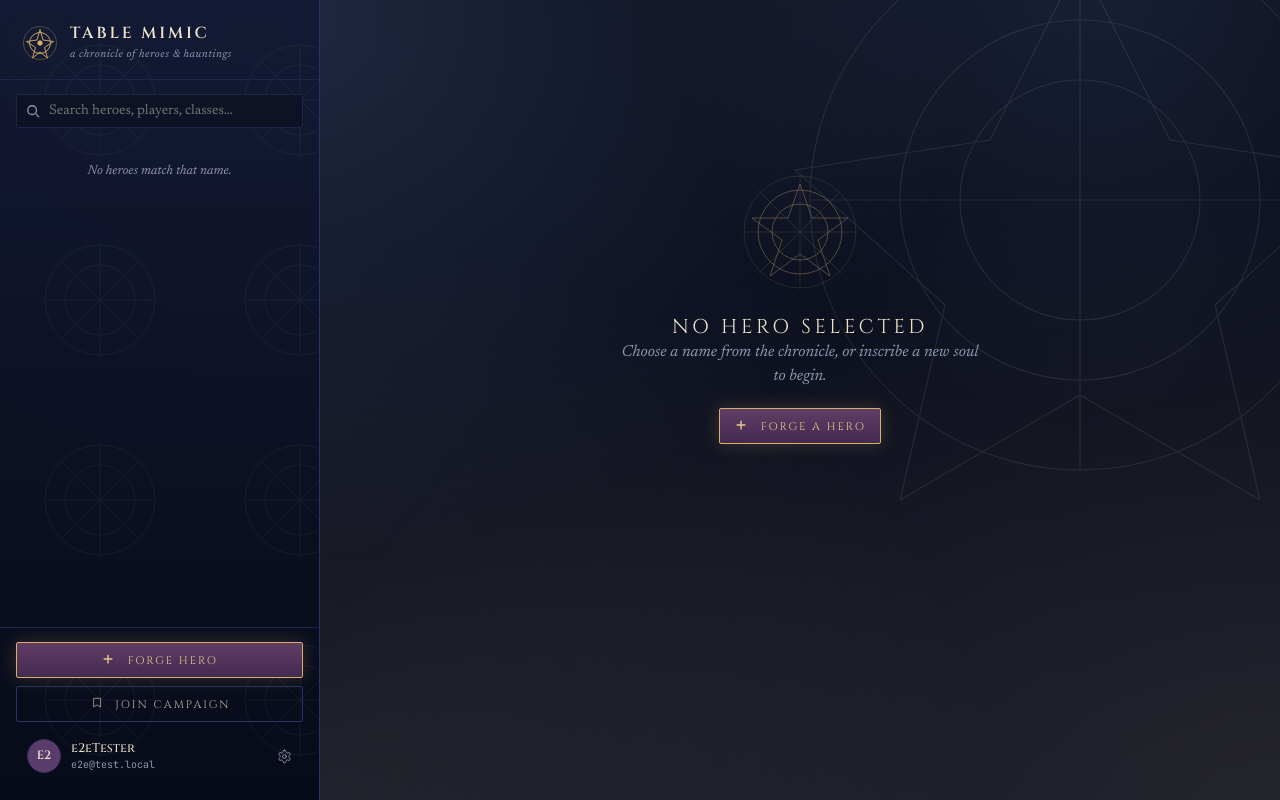
Test case: character creation wizard › restores a draft after reload
Click the button "Forge Hero": (160, 660) [16,642,303,678]
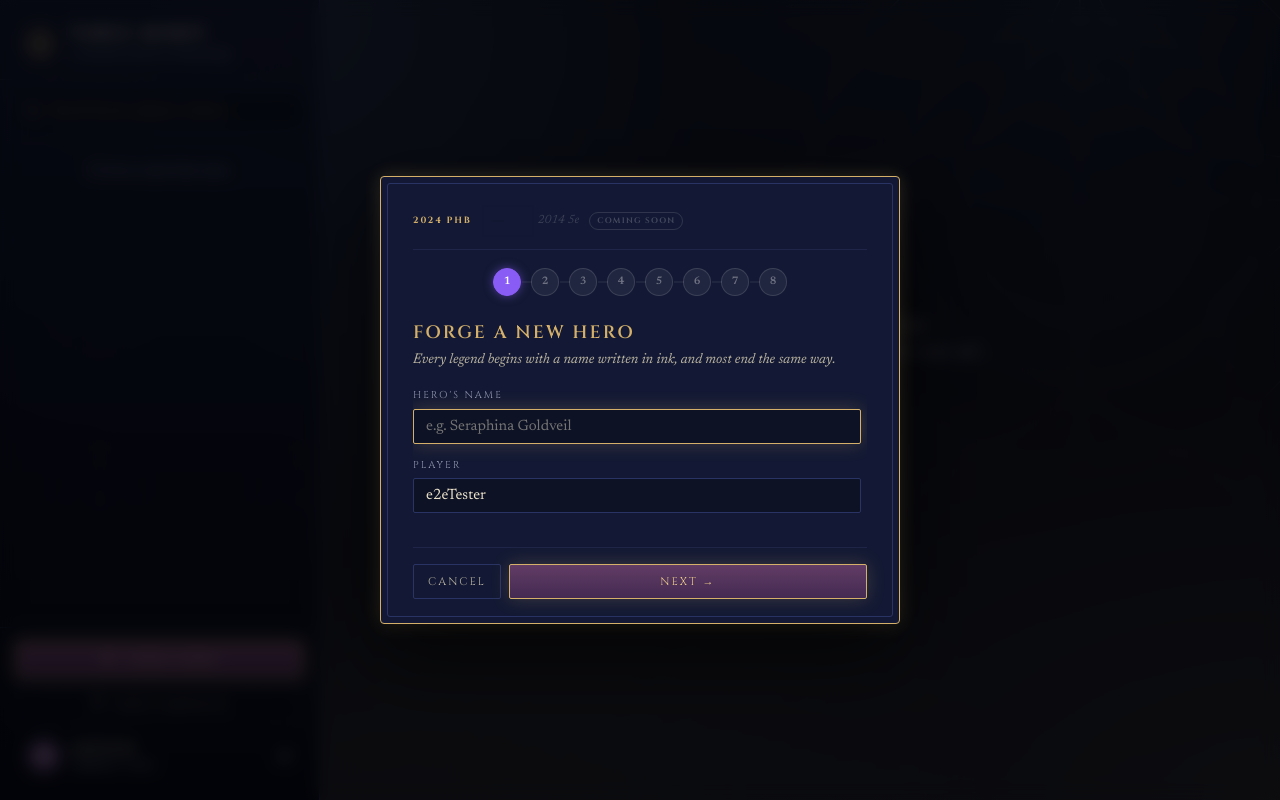
Expected: the dialog with class "wizard" is shown, [380,176,900,624]
In the field with placeholder "e.g. Seraphina Goldveil": (637, 427) [413,409,861,444], type "Draft Test"
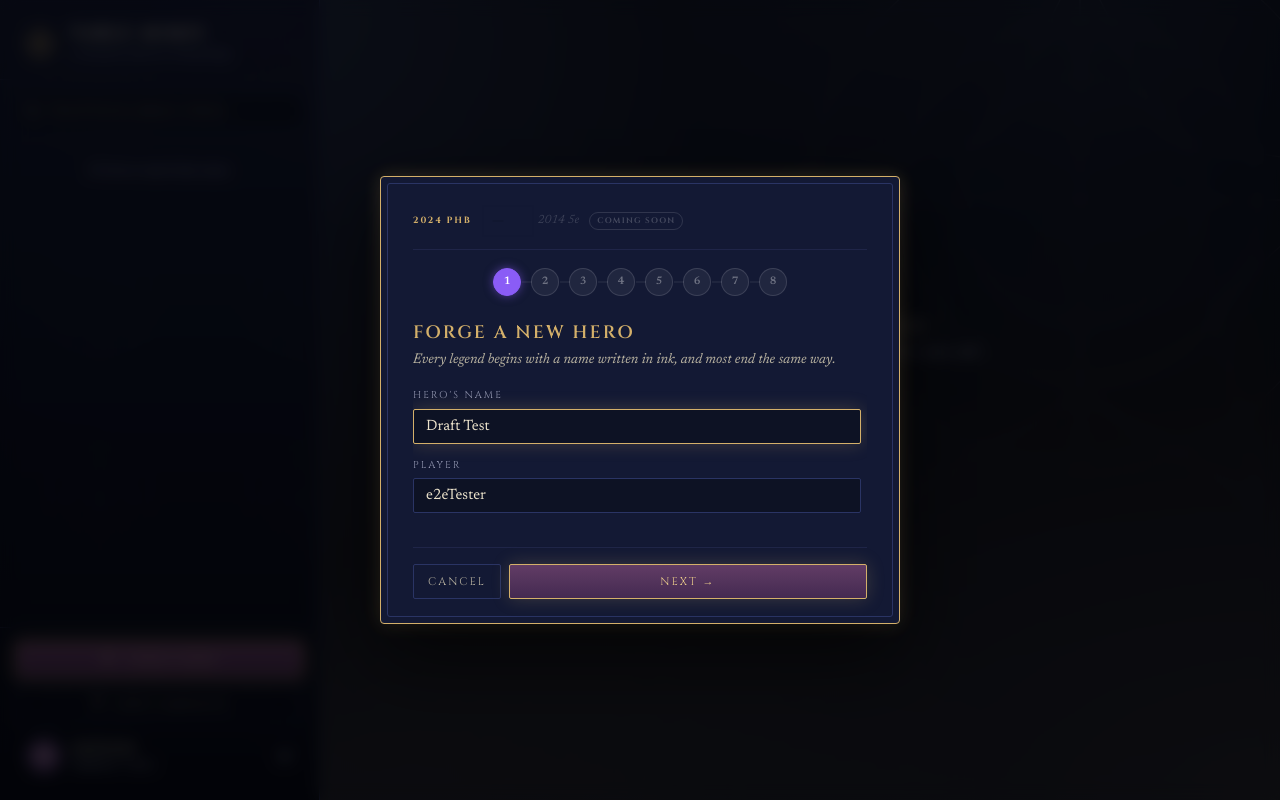
Click the button "Next →": (688, 582) [509,564,867,599]
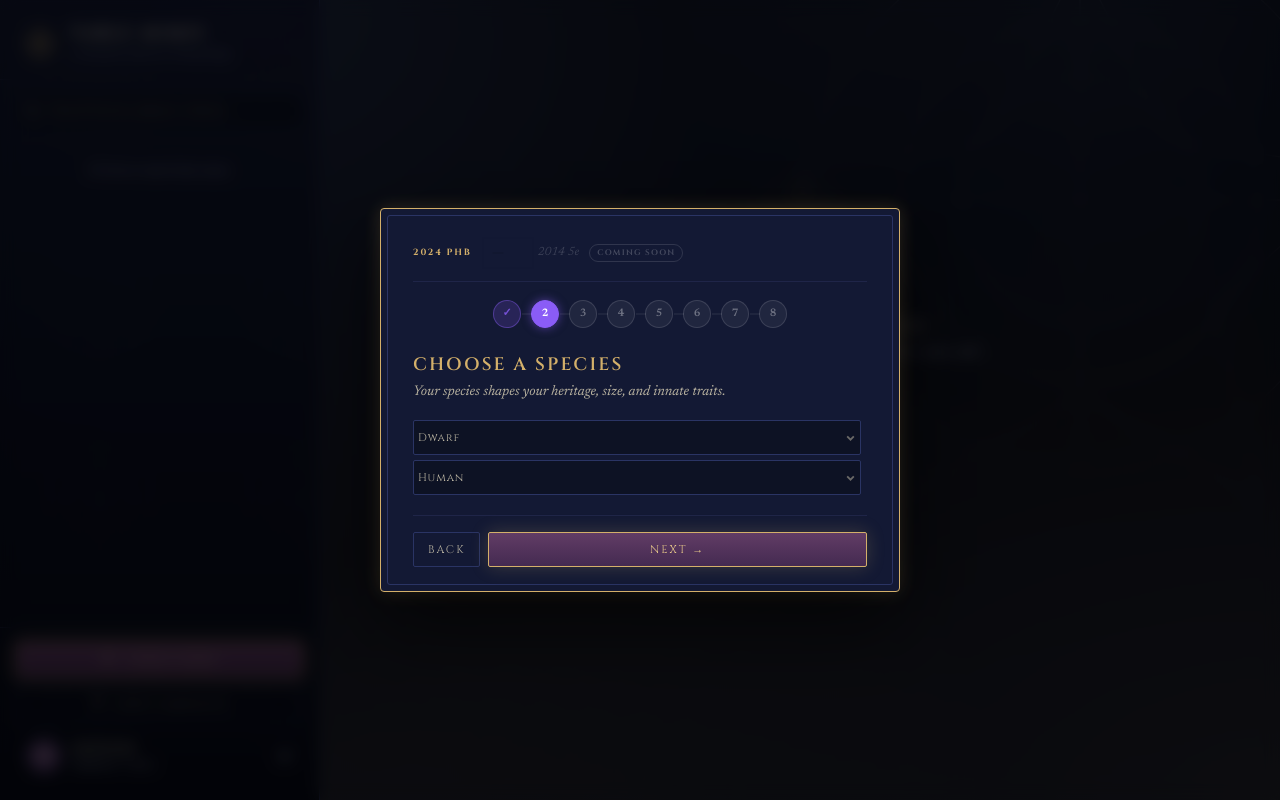
Reload the page
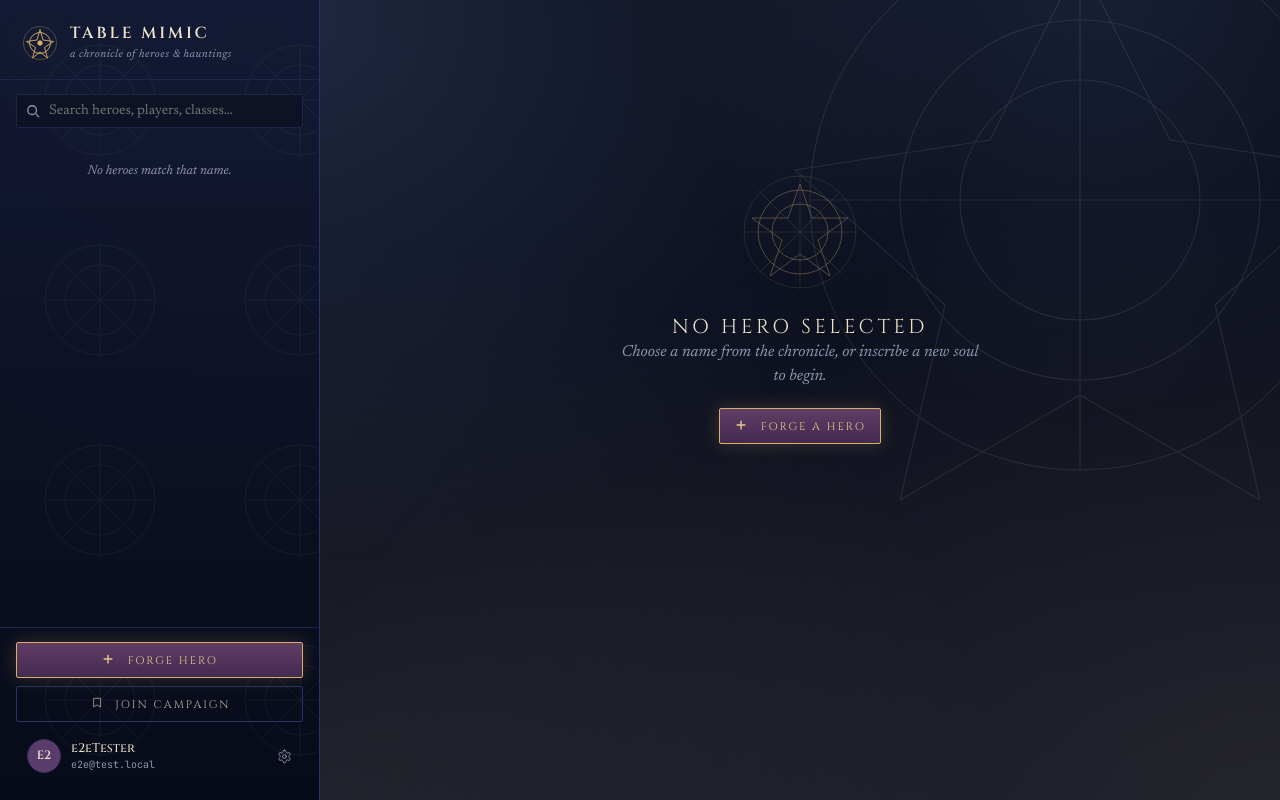
Click the button "Forge Hero": (160, 660) [16,642,303,678]
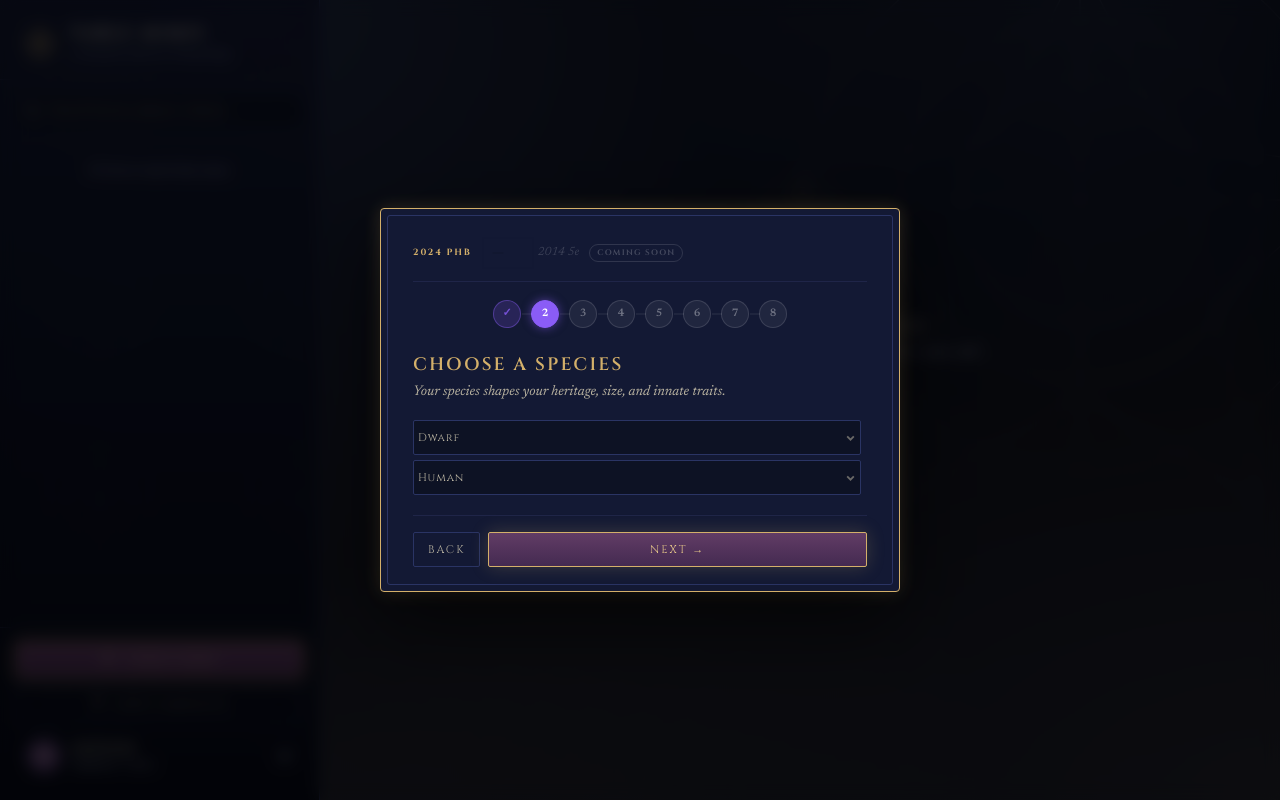
Expected: the dialog with class "wizard" is shown, [380,208,900,592]
Expected: the element with class "step-dot" reads "2", [531,300,559,328]
Click the button "Back": (447, 550) [413,532,480,567]
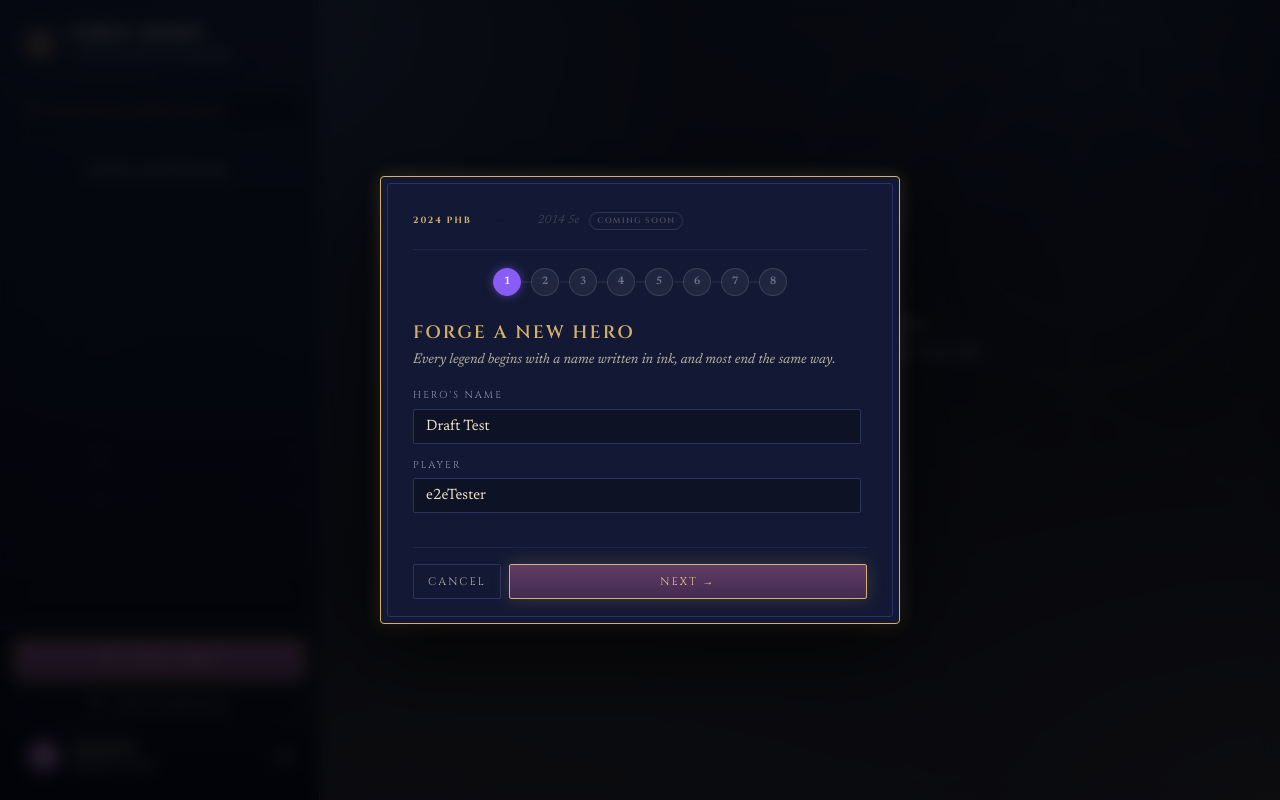
Expected: the field with placeholder "e.g. Seraphina Goldveil" holds "Draft Test", [413,409,861,444]
